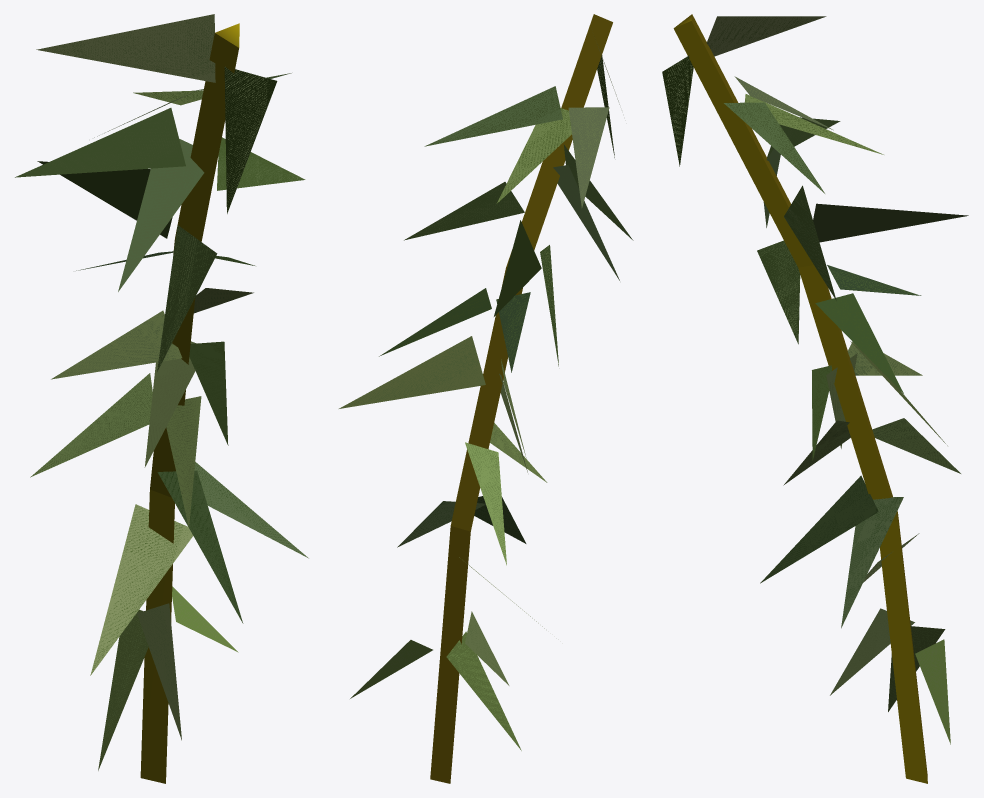
File: Tree_BambooD.fbx
The picture shows the model from 3 angles, left to right: view 1: azimuth 30°, elevation 25°; view 2: azimuth 150°, elevation 25°; view 3: azimuth 270°, elevation 25°; orthographic projection. The views are drawn at different scales.
Parts seen in each view (by area): view 1: Tree_BambooD; view 2: Tree_BambooD; view 3: Tree_BambooD.
Boxes of the visible parts, left/top/right/bottom form: Tree_BambooD: left=15, top=14, right=308, bottom=783; Tree_BambooD: left=339, top=14, right=633, bottom=783; Tree_BambooD: left=662, top=14, right=968, bottom=783.
Size of the model in its own units: 151 by 412 by 156.
